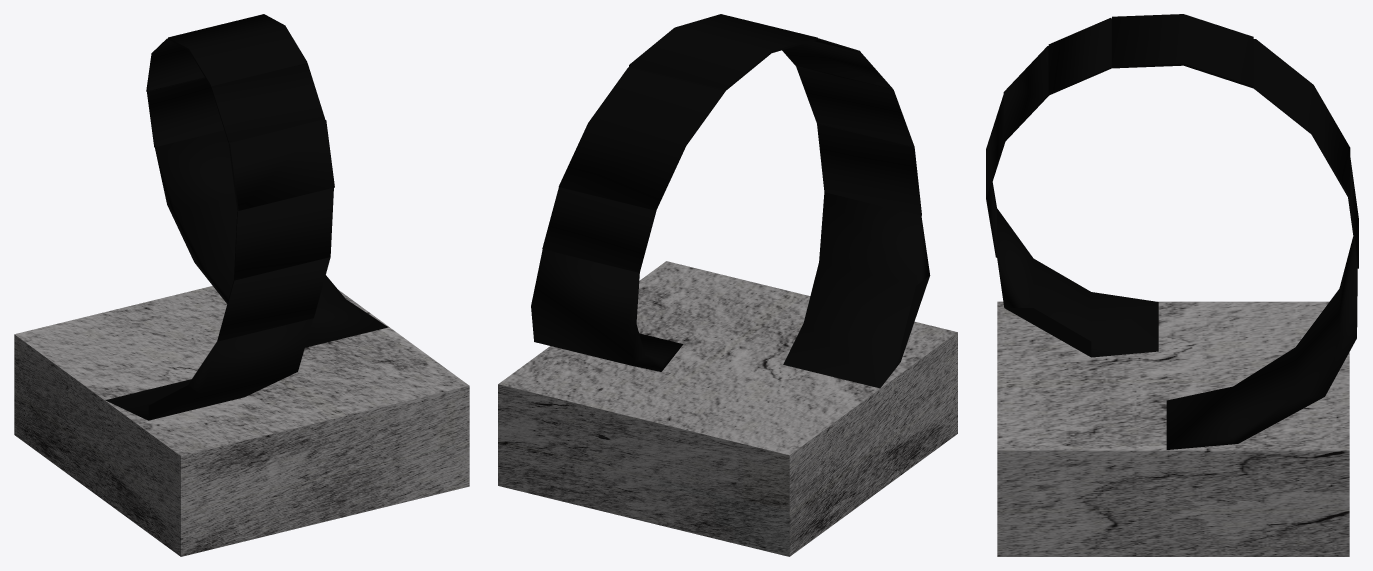
The model's file is LoopDeLoop.glb.
3 renders of one model, left to right at view 1: azimuth 30°, elevation 25°; view 2: azimuth 150°, elevation 25°; view 3: azimuth 270°, elevation 25°, orthographic. The views are drawn at different scales.
Visible parts, largest first — view 1: Cube.001; view 2: Cube.001; view 3: Cube.001.
Part boxes in pixels (<box>): Cube.001: <box>14,14,469,556</box>; Cube.001: <box>498,14,957,556</box>; Cube.001: <box>986,14,1358,556</box>.
Size of the model in its own units: 3 by 4.17 by 3.18.
Materials: 2 (1 with a texture image).
